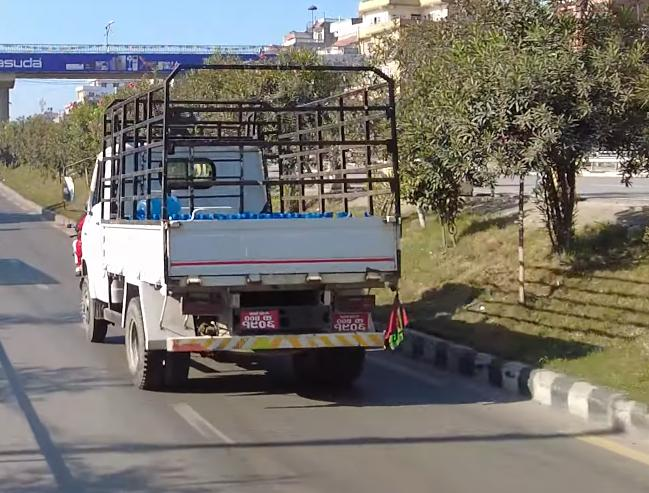transport_vehicle: (53, 57, 411, 415)
